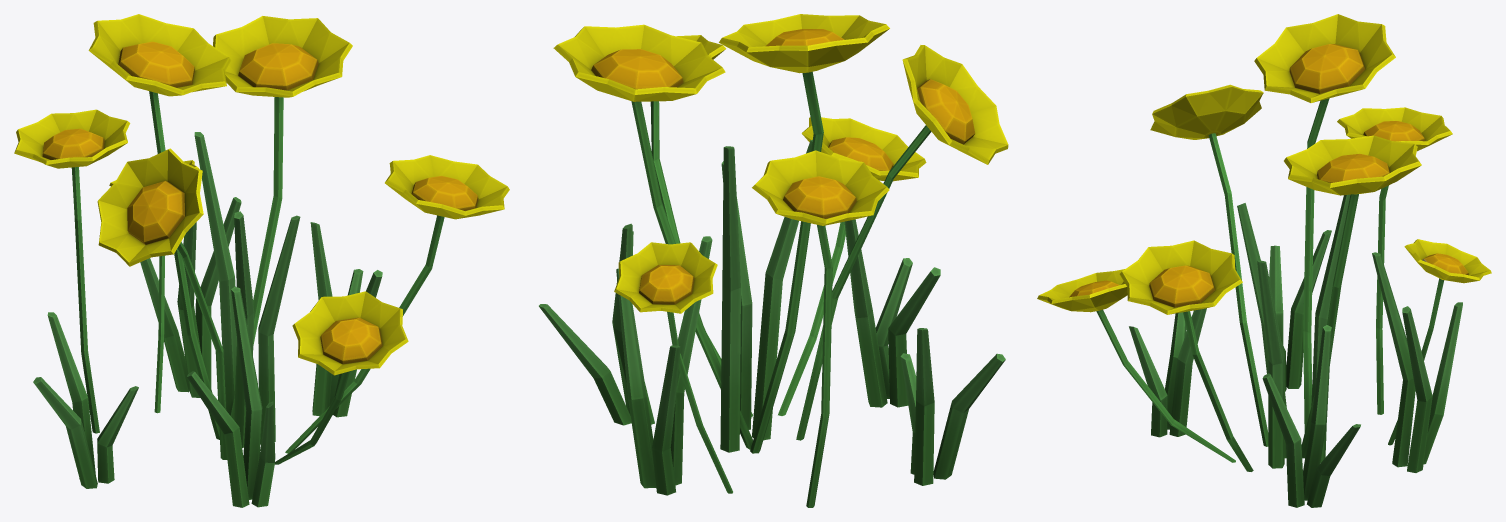
File: flower-dYQFgjU5Eqx.glb
3 views of the same model, side by side, from view 1: azimuth 30°, elevation 25°; view 2: azimuth 150°, elevation 25°; view 3: azimuth 270°, elevation 25° (orthographic). The views are drawn at different scales.
Visible parts, largest first — view 1: DesertMarigold_mesh; view 2: DesertMarigold_mesh; view 3: DesertMarigold_mesh.
Boxes of the visible parts, x1,y1,x2,y2 form: DesertMarigold_mesh: (14,14,509,507); DesertMarigold_mesh: (539,14,1008,507); DesertMarigold_mesh: (1037,14,1491,507).
Size of the model in its own units: 6.62 by 6.2 by 6.55.
Materials: 1 (1 with a texture image).
